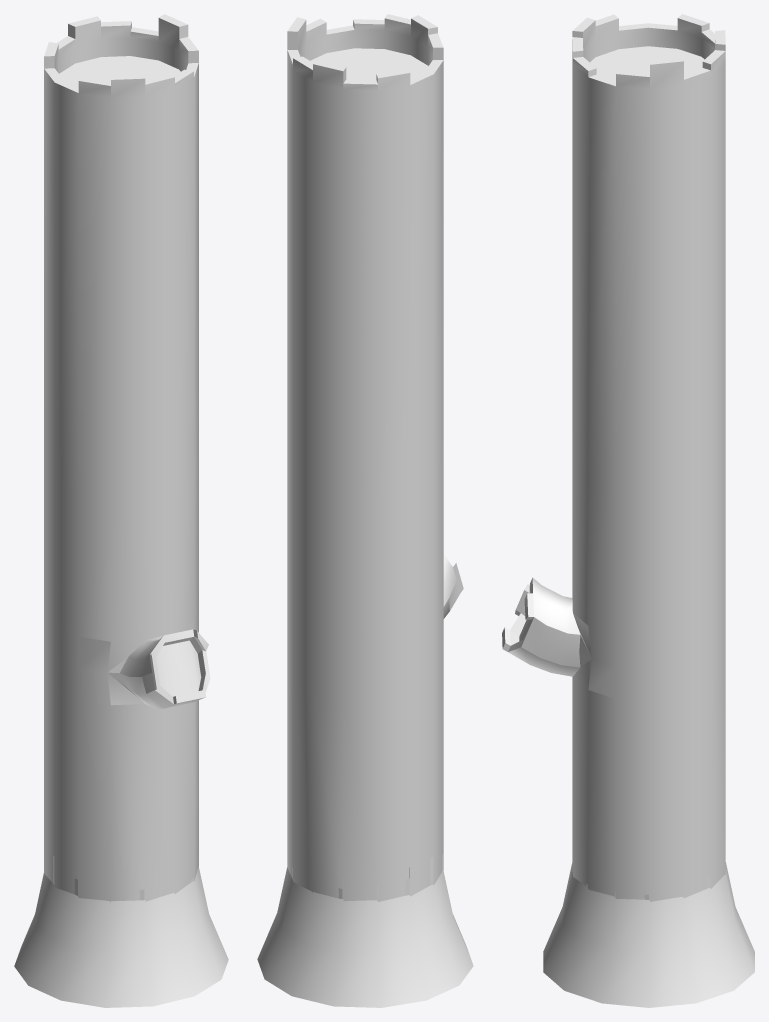
Rendered from TroncArbre.FBX.
The picture shows the model from 3 angles, left to right: view 1: azimuth 30°, elevation 25°; view 2: azimuth 150°, elevation 25°; view 3: azimuth 270°, elevation 25°; orthographic projection.
Parts seen in each view (by area): view 1: Cylinder097, Cylinder096; view 2: Cylinder097, Cylinder096; view 3: Cylinder097, Cylinder096.
Part boxes in pixels (x1,y1,x2,y2): Cylinder097: (44, 14, 210, 902); Cylinder096: (14, 856, 228, 1007); Cylinder097: (287, 14, 463, 901); Cylinder096: (257, 854, 473, 1007); Cylinder097: (502, 14, 725, 901); Cylinder096: (543, 862, 754, 1007).
Bounding box in the file's own units: 17.5 × 82.72 × 20.38.
